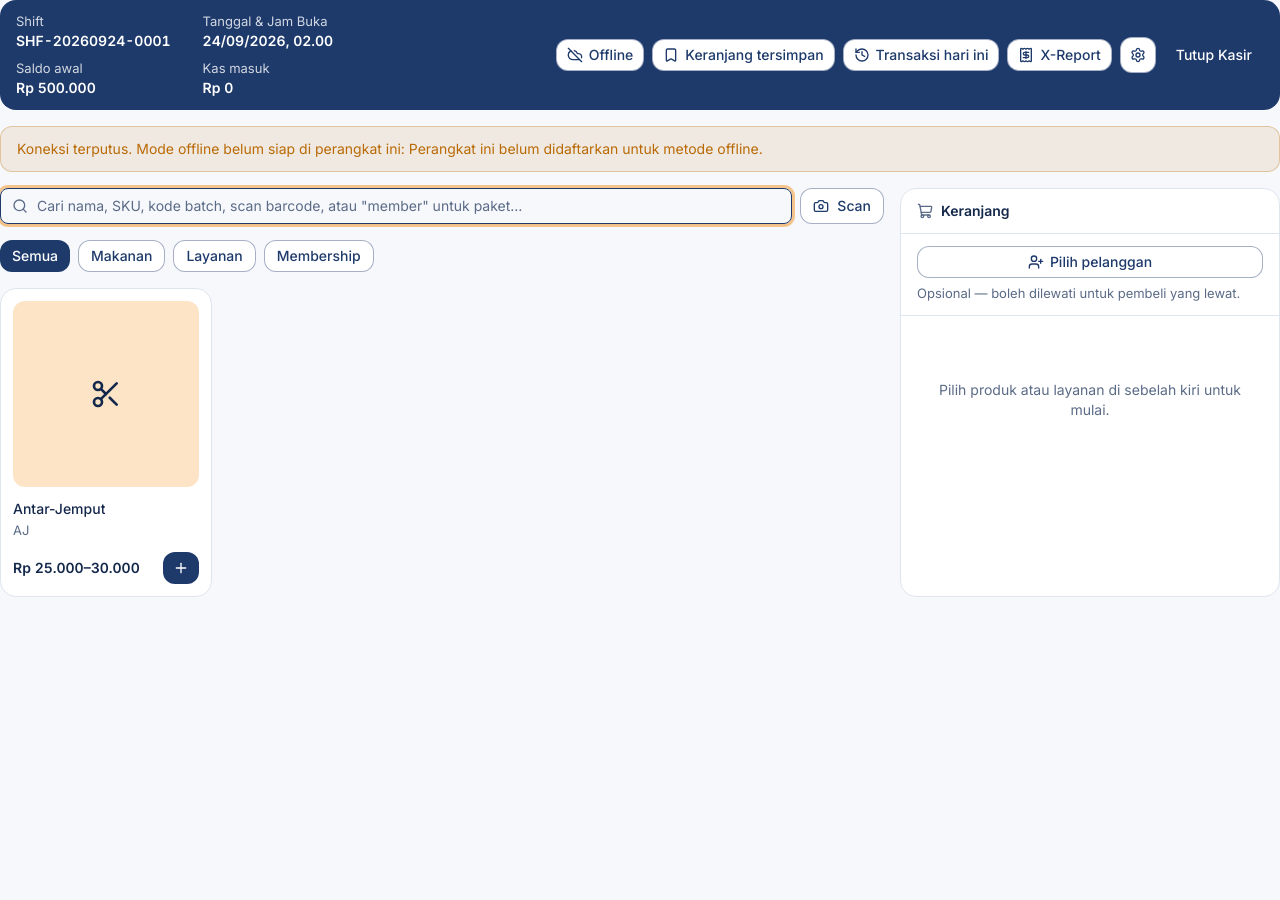
Test: PosServicePetDialog — antar-jemput › re-prices and swaps the ends when the direction changes
Click the button "Pilih pelanggan". click: x=1090, y=262
box: [917, 246, 1263, 278]
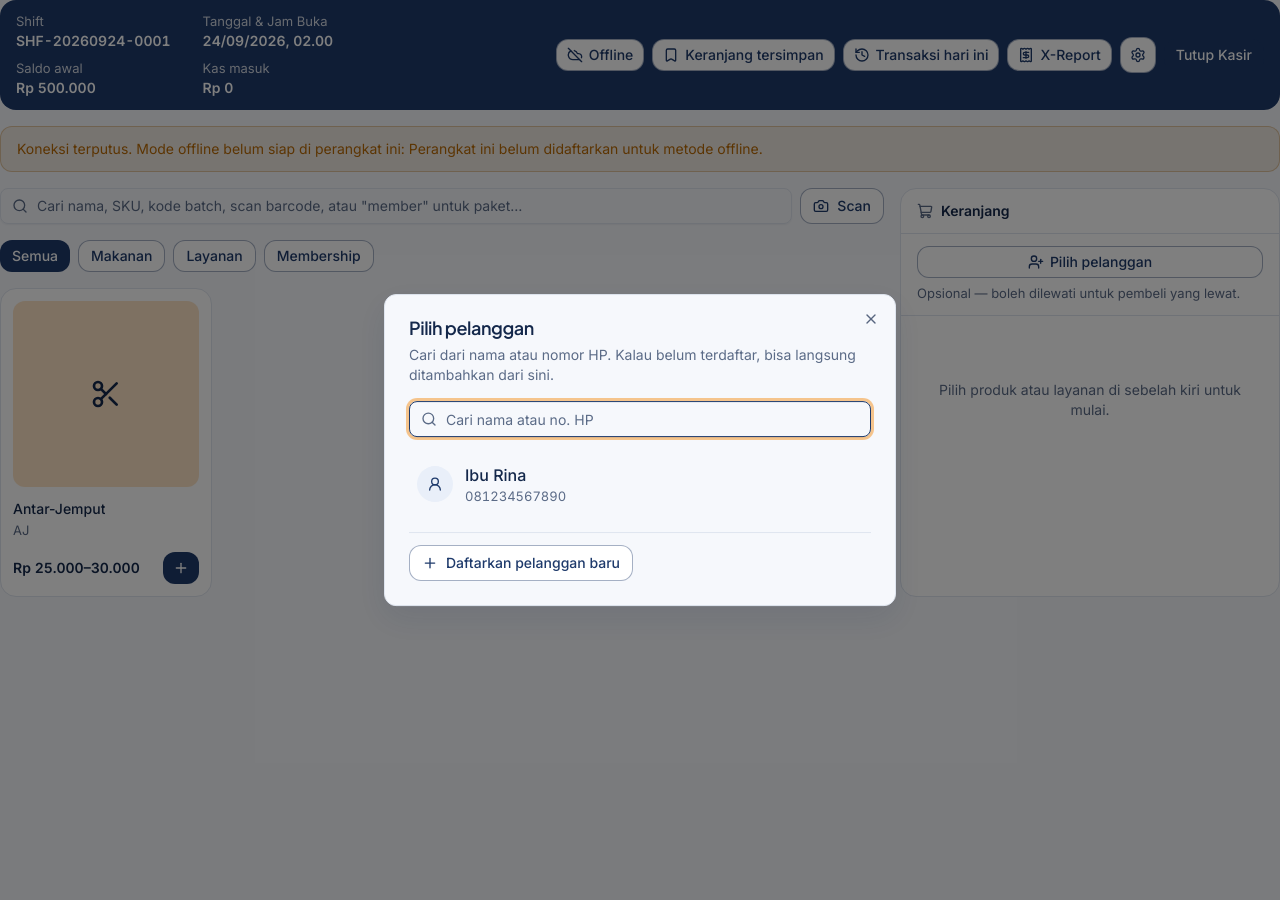
Click the text "Ibu Rina". click: x=496, y=475
box: [465, 465, 526, 485]
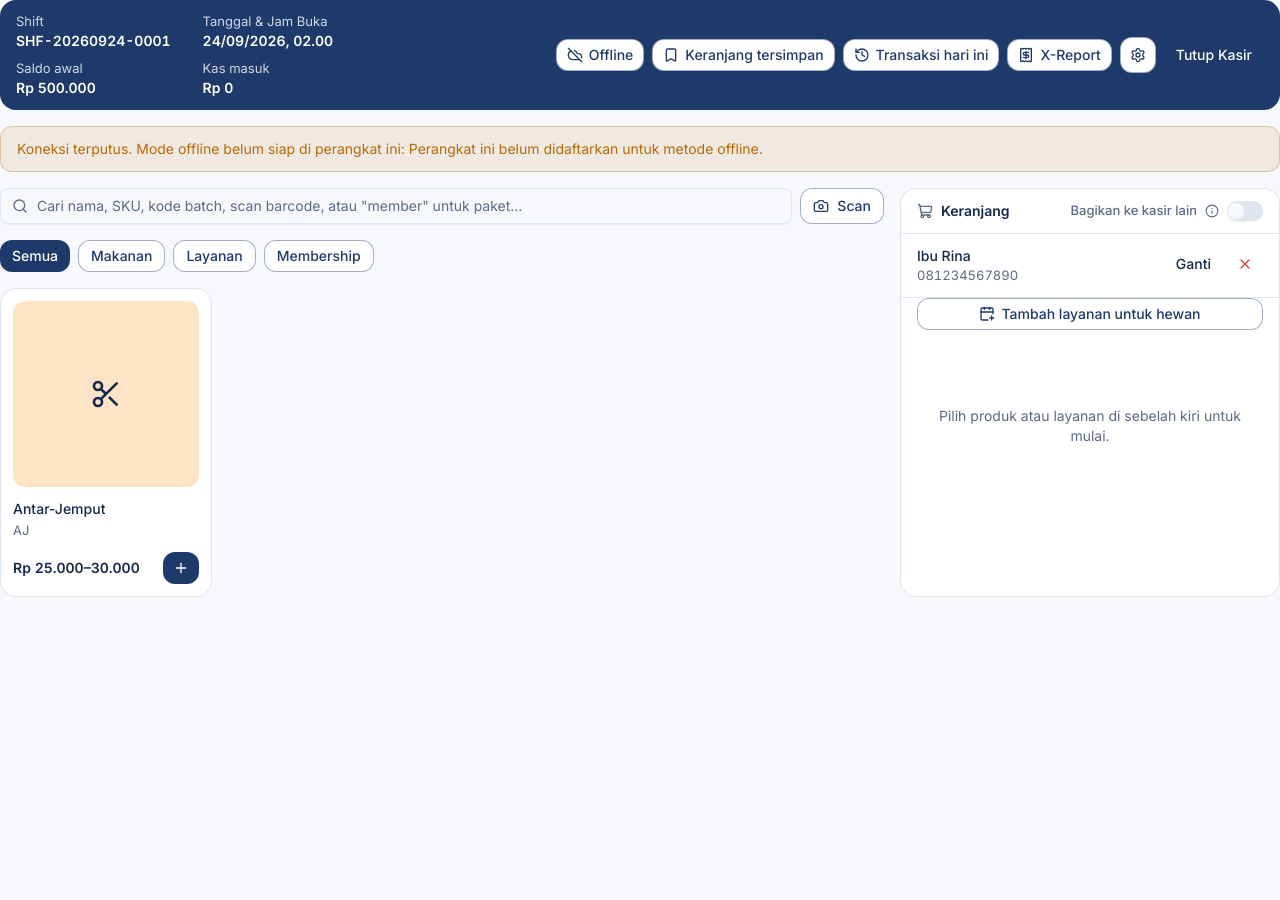
Click the button named "antar-jemput". click: x=181, y=568
box: [163, 552, 199, 584]
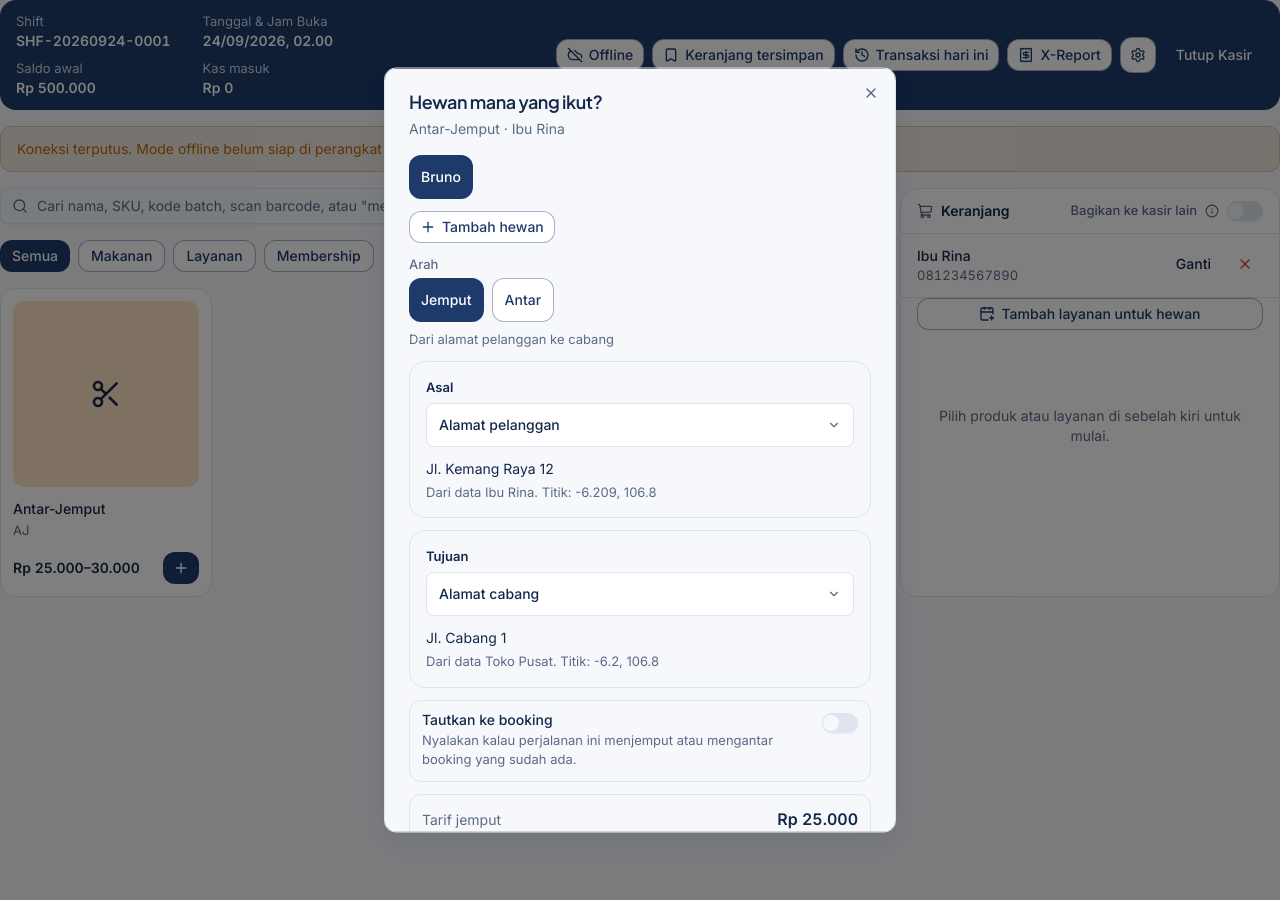
expect the heading "Hewan mana yang ikut?" is shown: met, box [409, 90, 602, 112]
Click the button "Antar". click: x=523, y=299
box: [492, 277, 554, 321]
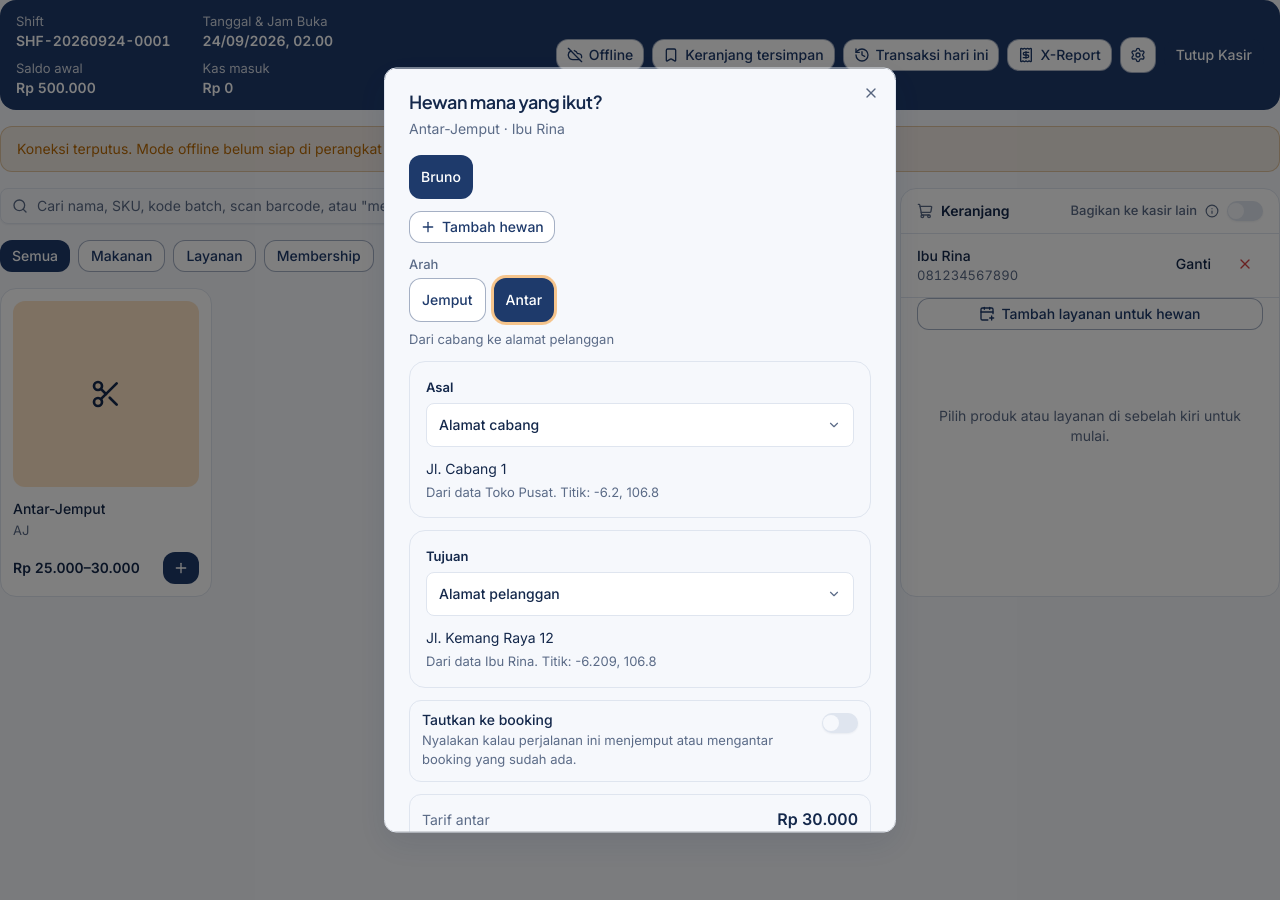
expect the text "Rp 30.000" is shown: met, box [777, 806, 858, 830]
